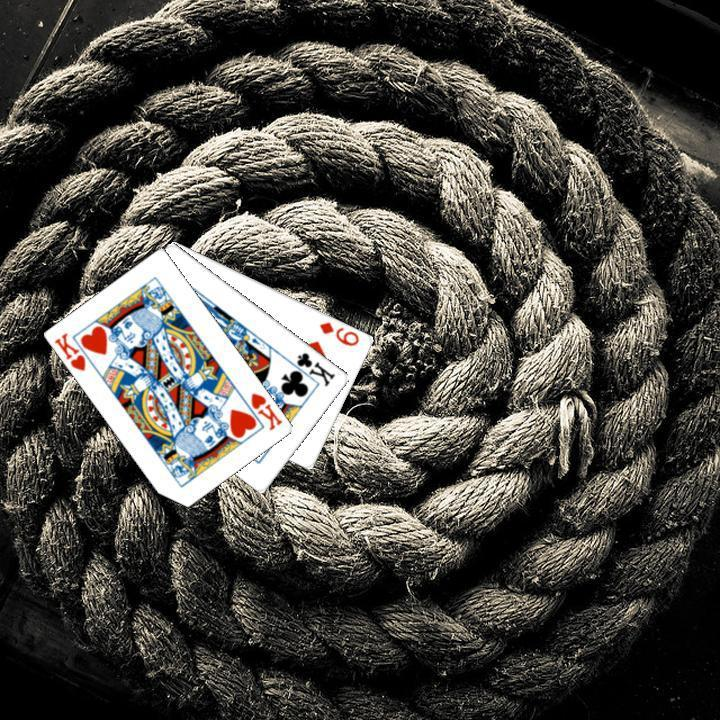9: (315, 317, 361, 348)
K: (284, 348, 337, 389), (247, 388, 285, 433), (51, 328, 88, 373)
